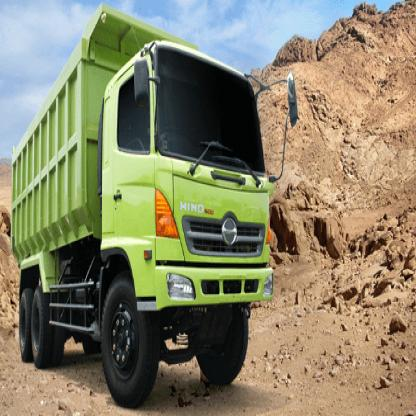dump_truck: (3, 6, 272, 398)
